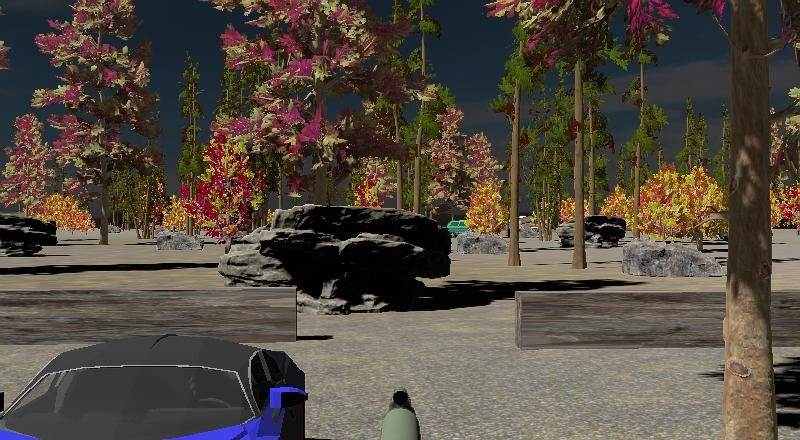car: (3, 333, 310, 440)
